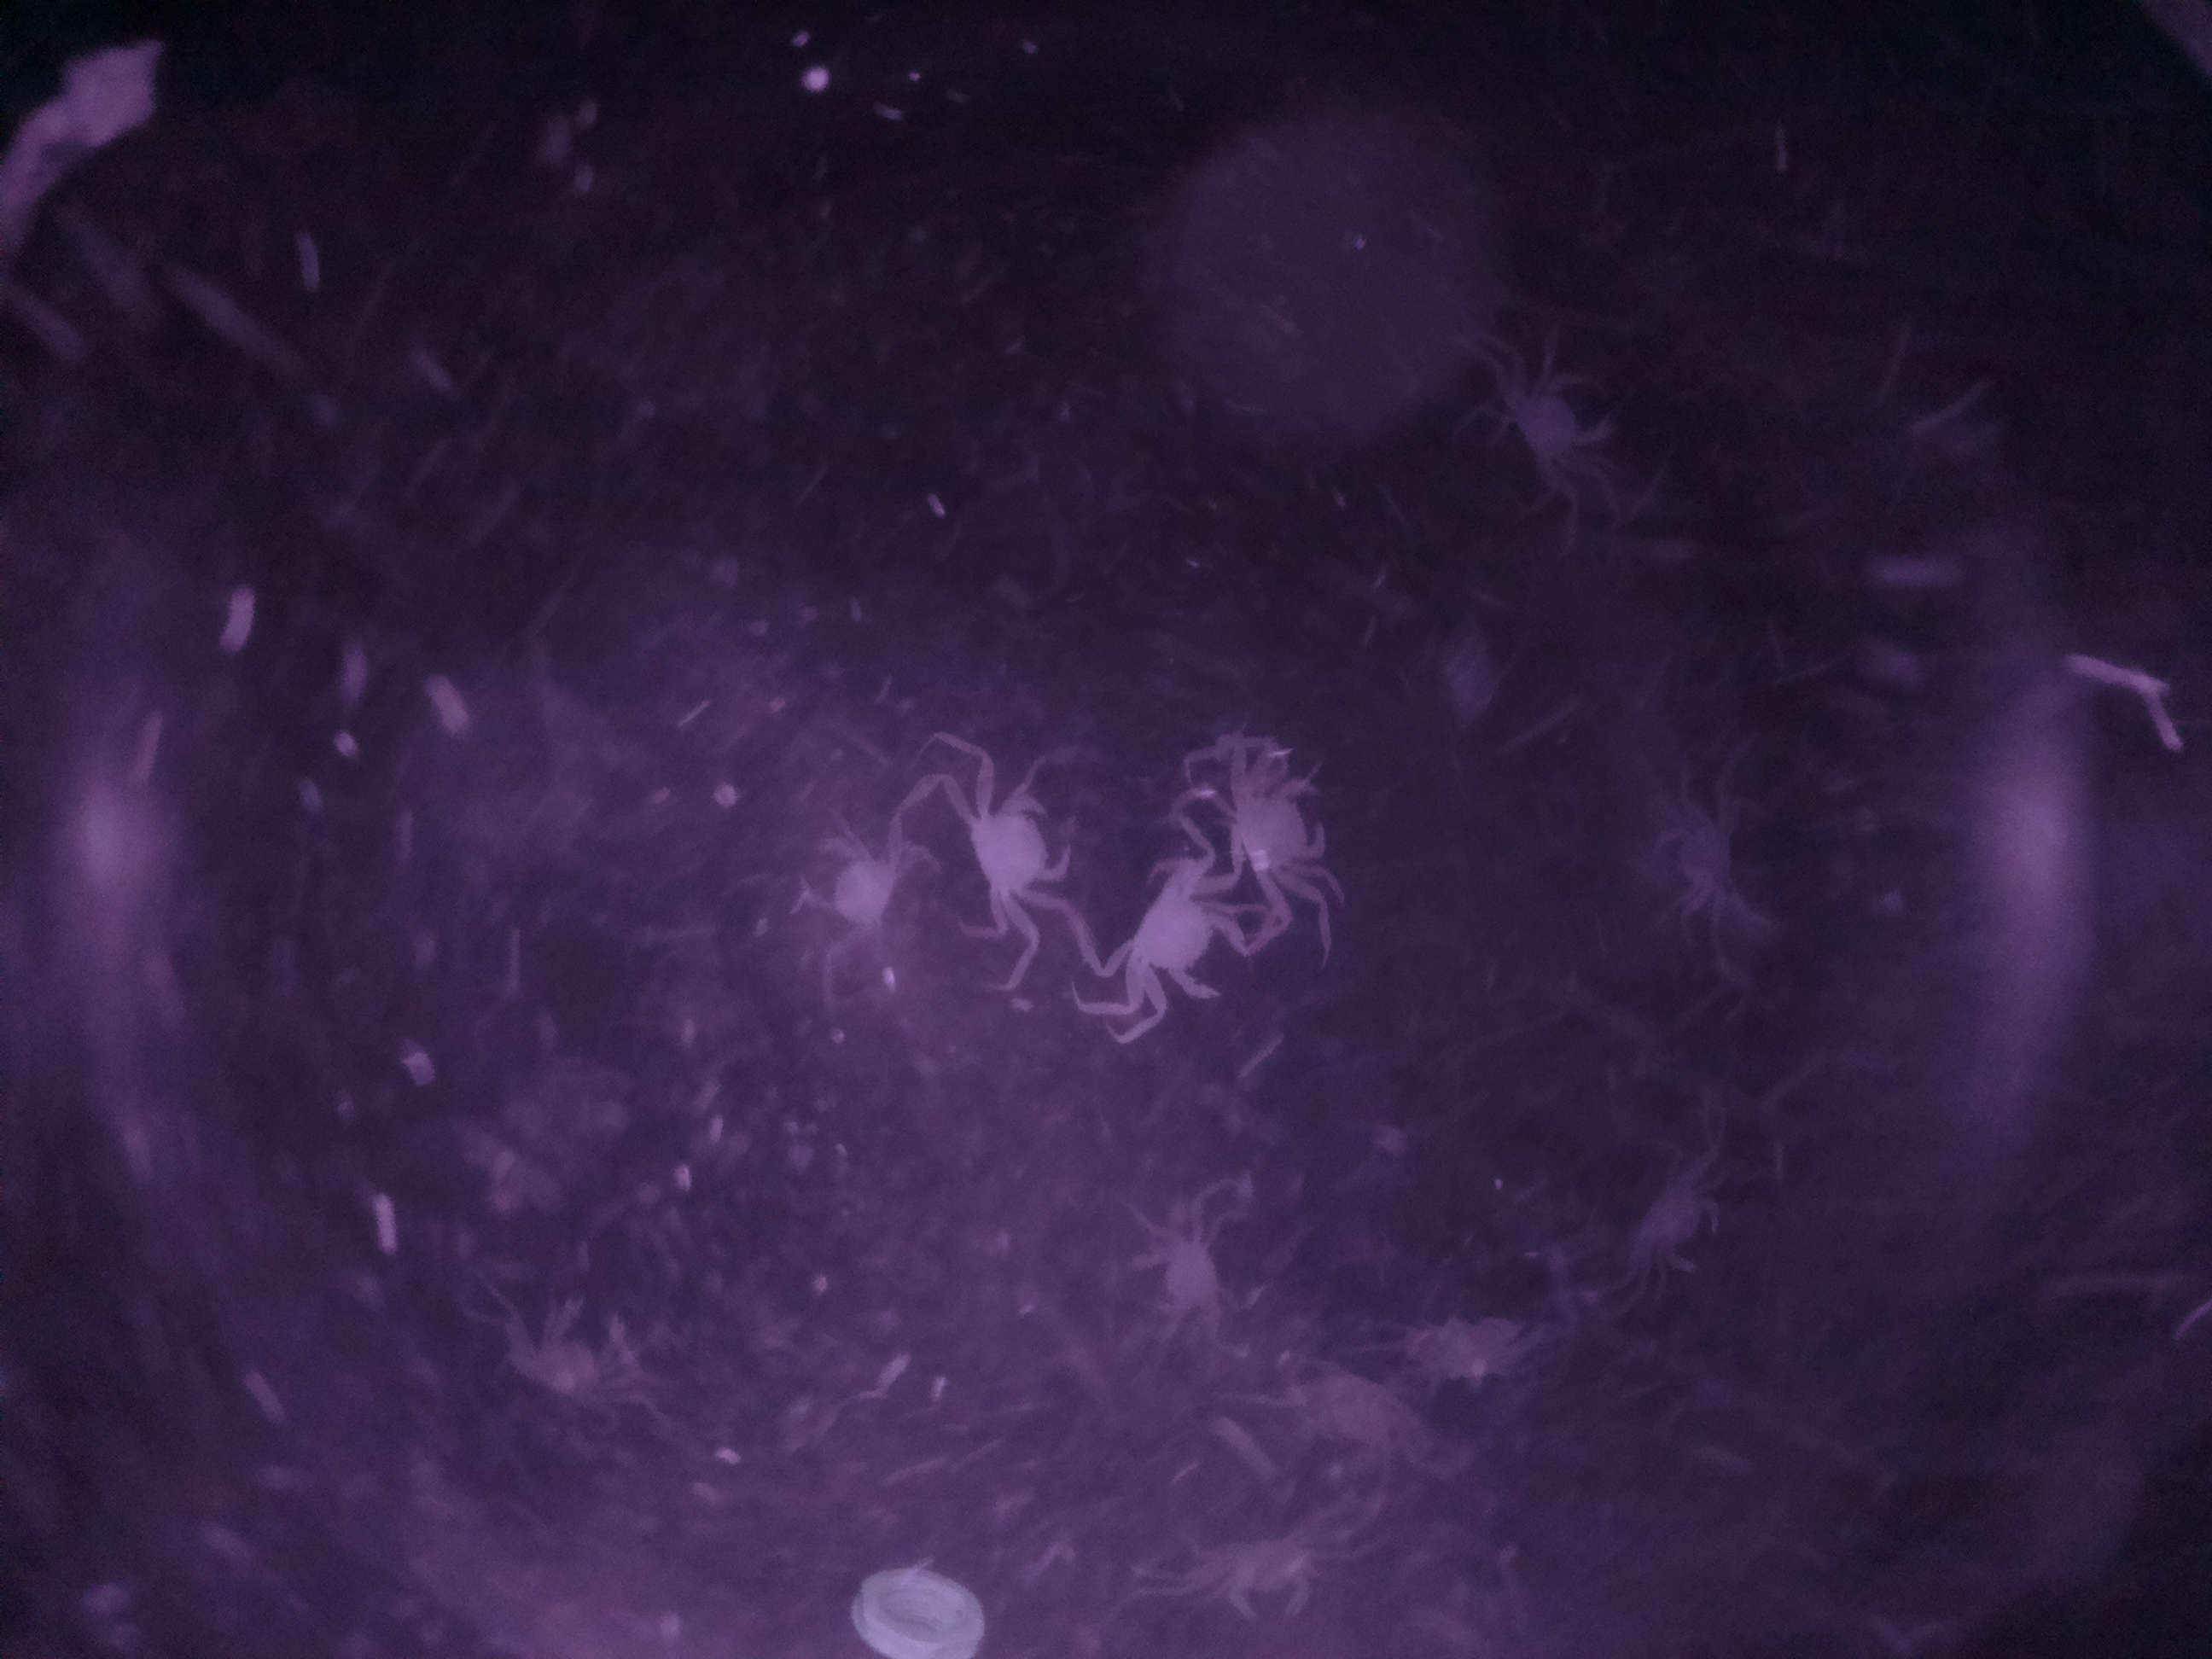Crab: (1181, 753, 1367, 892), (1104, 849, 1245, 1023), (944, 769, 1092, 924)
